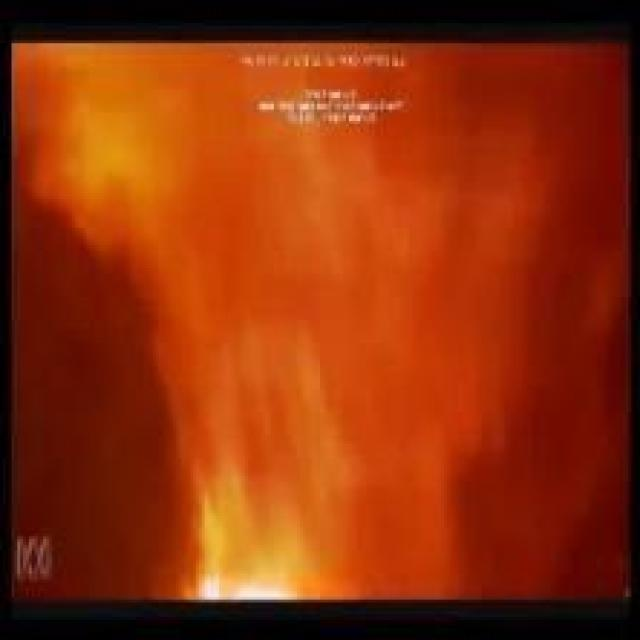smoke: (190, 478, 320, 602)
